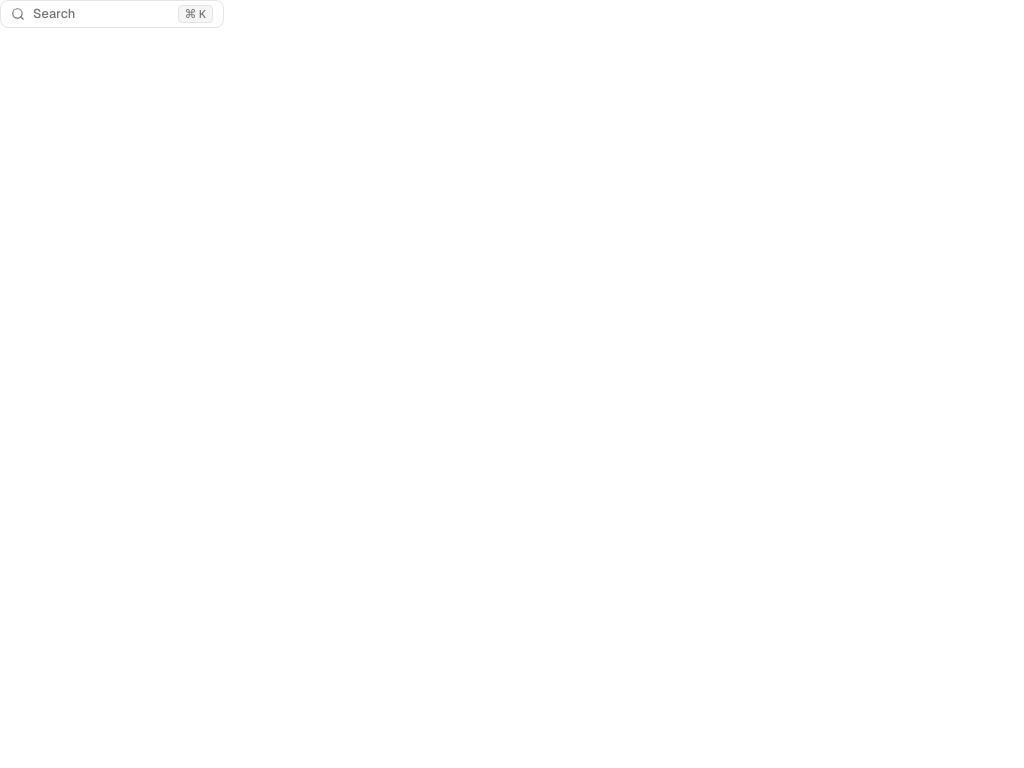
Test: CommandMenu › filters destinations as the user types
Type keys "{Meta>}k{/Meta}"
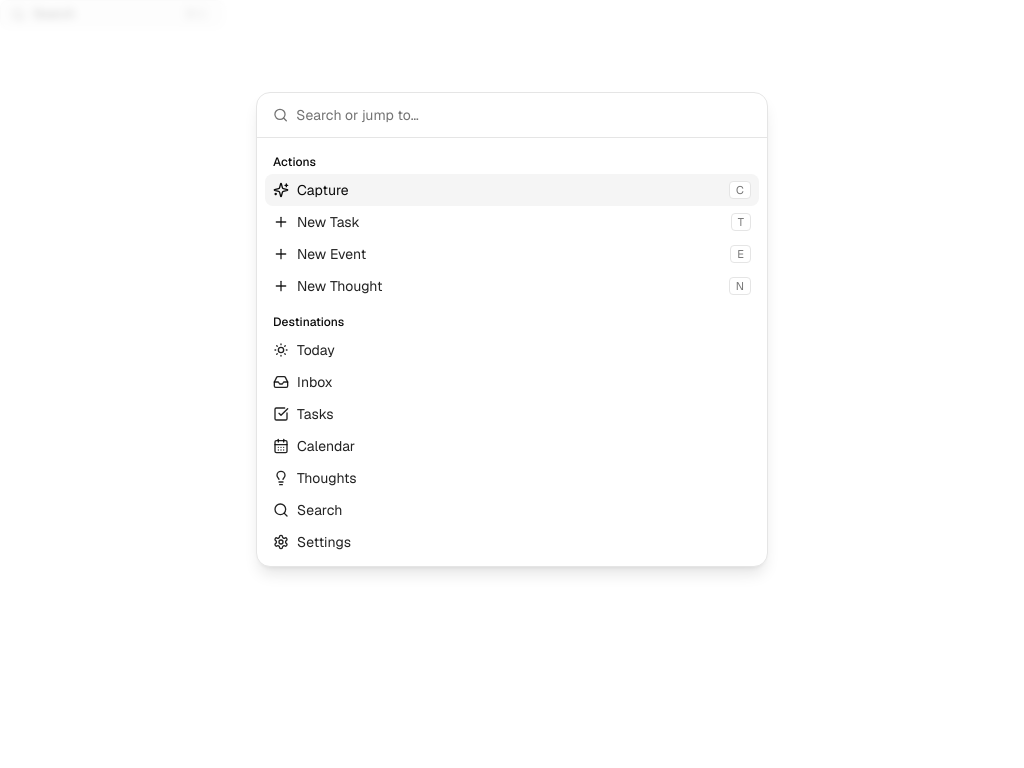
In the dropdown named "Search destinations and actions": (524, 115) [296,105,751,125], type "inbox"
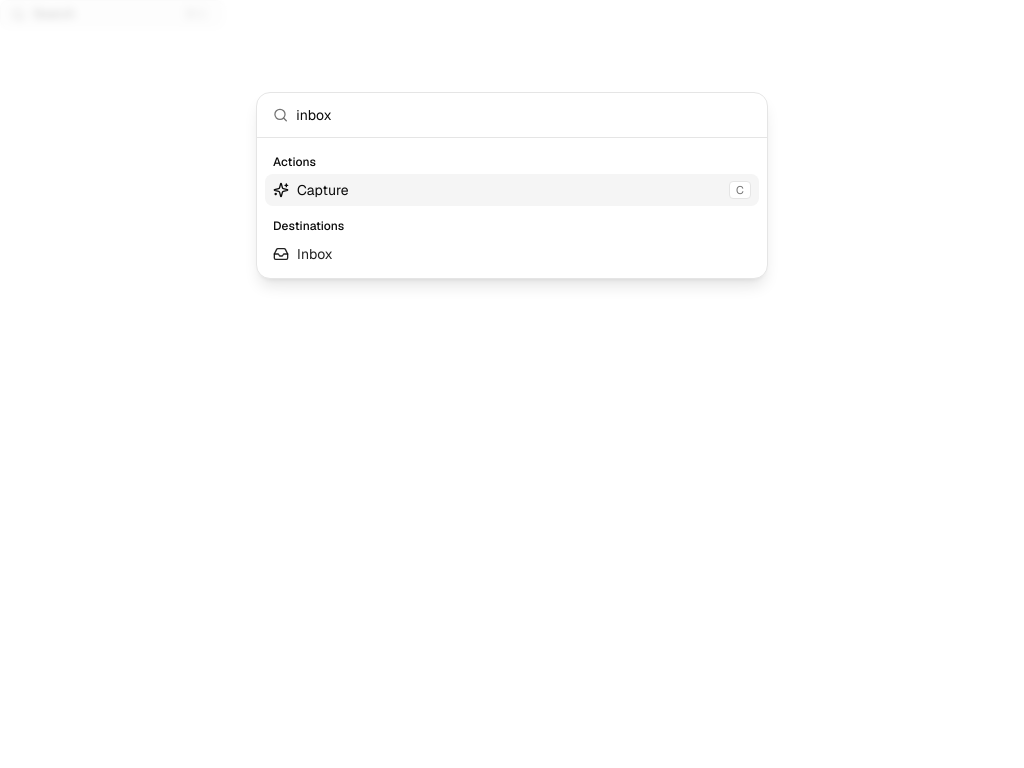
Now the option "Inbox" is shown, box [265,238,759,270]
Now the option "Calendar" is gone
